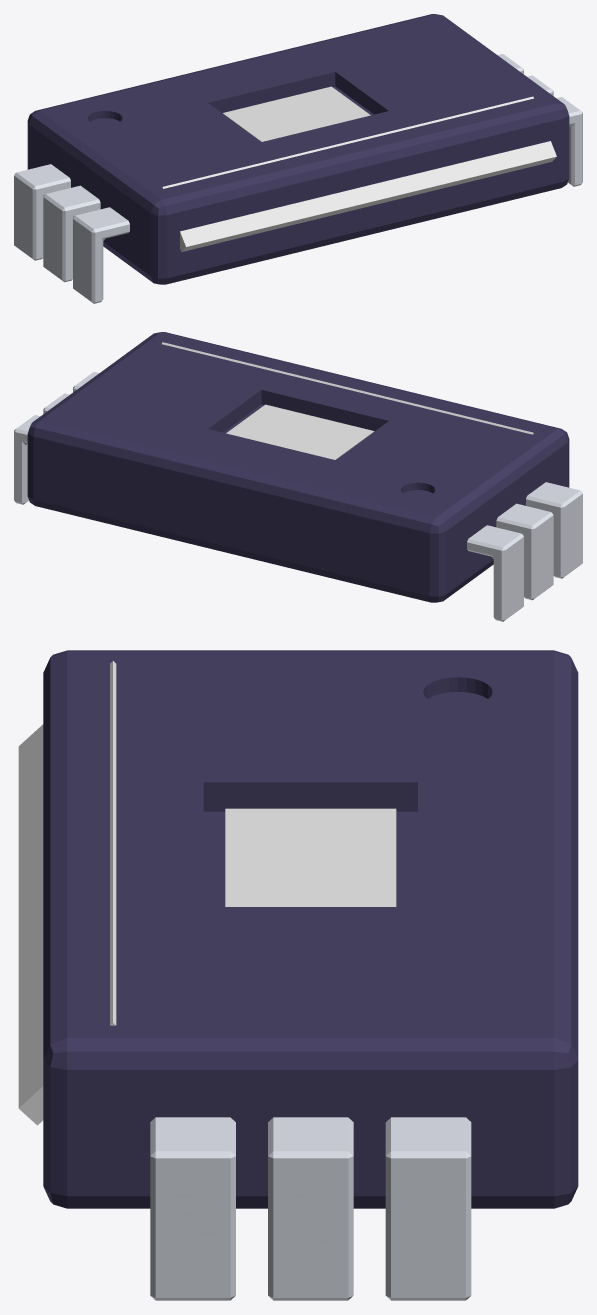
File: chip.glb
The picture shows the model from 3 angles, top to bottom: view 1: azimuth 30°, elevation 25°; view 2: azimuth 150°, elevation 25°; view 3: azimuth 270°, elevation 25°; orthographic projection. The views are drawn at different scales.
Parts seen in each view (by area): view 1: Body, Pins, Display, Die; view 2: Body, Pins, Die, Display; view 3: Body, Pins, Die, Display.
Boxes of the visible parts, x1,y1,x2,y2 form: Body: (27,14,569,284); Pins: (14,54,582,303); Display: (162,96,556,251); Die: (222,86,370,141); Body: (27,332,569,602); Pins: (14,372,582,621); Die: (226,404,374,459); Display: (162,342,533,434); Body: (43,650,578,1208); Pins: (150,1117,471,1300); Die: (225,808,396,906); Display: (18,661,116,1125).
Bounding box in the file's own units: 42.4 × 9.12 × 20.92.
